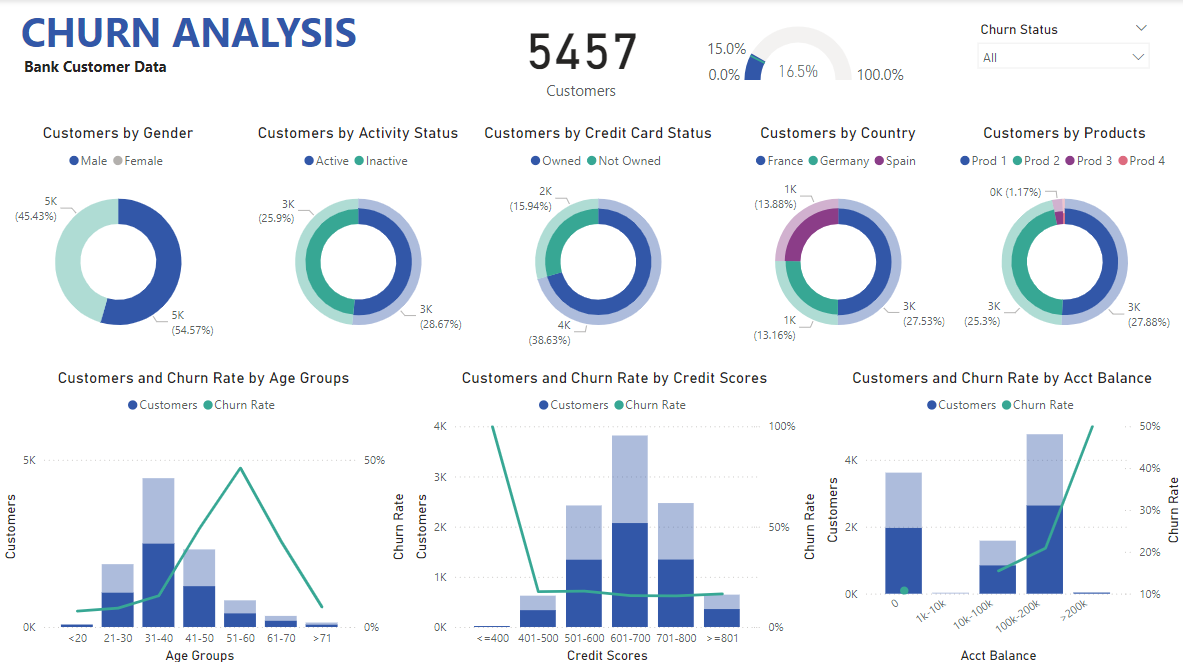

This screenshot's page, from the dashboard's own definition file:
{"tool":"powerbi","page":{"name":"Bank Customer Data Churn Analysis","canvas":[1280,720],"ordinal":0},"visuals":[{"type":"card","fields":{"Values":["Customer Data.Customers"]},"box":[553.8,4.9,150.6,110.1],"z":0},{"type":"donutChart","fields":{"Category":["Customer Data.Gender"],"Y":["Customer Data.Customers"]},"box":[0,134.4,259.1,249.4],"z":1000},{"type":"donutChart","fields":{"Category":["Customer Data.Activity Status"],"Y":["Customer Data.Customers"]},"box":[259.1,134.4,259.1,249.4],"z":2000},{"type":"donutChart","fields":{"Y":["Customer Data.Customers"],"Category":["Customer Data.Credit Card Status"]},"box":[518.2,134.4,259.1,249.4],"z":3000},{"type":"donutChart","fields":{"Y":["Customer Data.Customers"],"Category":["Customer Data.Country"]},"box":[777.2,134.4,259.1,249.4],"z":4000},{"type":"donutChart","fields":{"Y":["Customer Data.Customers"],"Category":["Customer Data.Products"]},"box":[1021.7,134.4,259.1,249.4],"z":5000},{"type":"lineStackedColumnComboChart","fields":{"Y":["Customer Data.Customers"],"Y2":["Customer Data.Churn Rate"],"Category":["Age Groups.Age Groups"]},"box":[0,398.3,443.7,322.2],"z":6000},{"type":"lineStackedColumnComboChart","fields":{"Y":["Customer Data.Customers"],"Y2":["Customer Data.Churn Rate"],"Category":["Credit Score Groups.Credit Scores"]},"box":[443.7,398.3,443.7,322.2],"z":7000},{"type":"lineStackedColumnComboChart","fields":{"Y":["Customer Data.Customers"],"Y2":["Customer Data.Churn Rate"],"Category":["Acct Balance Groups.Acct Balance"]},"box":[887.3,398.3,393.5,322.2],"z":8000},{"type":"slicer","fields":{"Values":["Customer Data.Churn Status"]},"box":[1047.6,19.4,205.6,82.6],"z":9000},{"type":"gauge","fields":{"Y":["Customer Data.Churn Rate"],"MinValue":["Min(Customer Data.Min Churn Rate)"],"MaxValue":["Max(Customer Data.Max Churn Rate)"],"TargetValue":["Min(Customer Data.Target Churn Rate)"]},"box":[722.2,24.3,299.6,72.9],"z":10000},{"type":"textbox","box":[19.4,0,498.7,134.4],"z":11000}]}

Visuals, with their boxes in screenshot pixels (x1, y1, x2, y2), scaled from the page's 1280x720 canvas onto the 1183x666 screenshot:
card - Customer Data.Customers: (512,5,651,106)
donutChart - Customer Data.Gender x Customer Data.Customers: (0,124,239,355)
donutChart - Customer Data.Activity Status x Customer Data.Customers: (239,124,479,355)
donutChart - Customer Data.Customers x Customer Data.Credit Card Status: (479,124,718,355)
donutChart - Customer Data.Customers x Customer Data.Country: (718,124,958,355)
donutChart - Customer Data.Customers x Customer Data.Products: (944,124,1182,355)
lineStackedColumnComboChart - Customer Data.Customers x Customer Data.Churn Rate: (0,368,410,665)
lineStackedColumnComboChart - Customer Data.Customers x Customer Data.Churn Rate: (410,368,820,665)
lineStackedColumnComboChart - Customer Data.Customers x Customer Data.Churn Rate: (820,368,1182,665)
slicer - Customer Data.Churn Status: (968,18,1158,94)
gauge - Customer Data.Churn Rate x Min(Customer Data.Min Churn Rate): (667,22,944,90)
textbox: (18,0,479,124)
